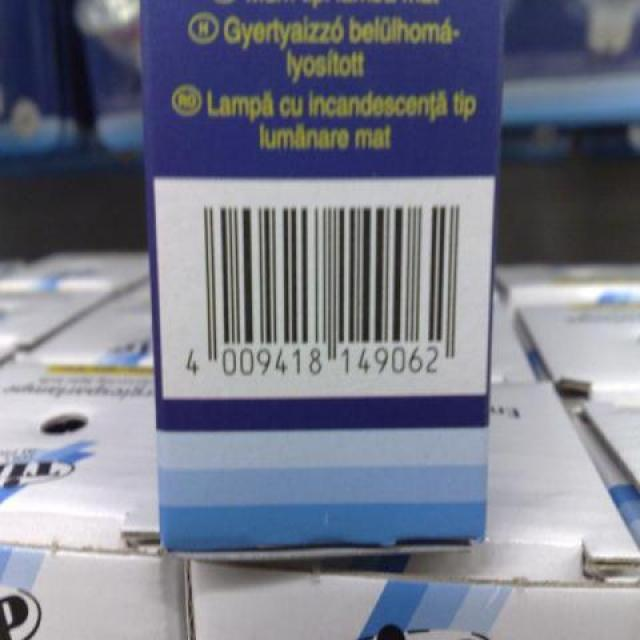Barcode: (153, 176, 495, 400)
